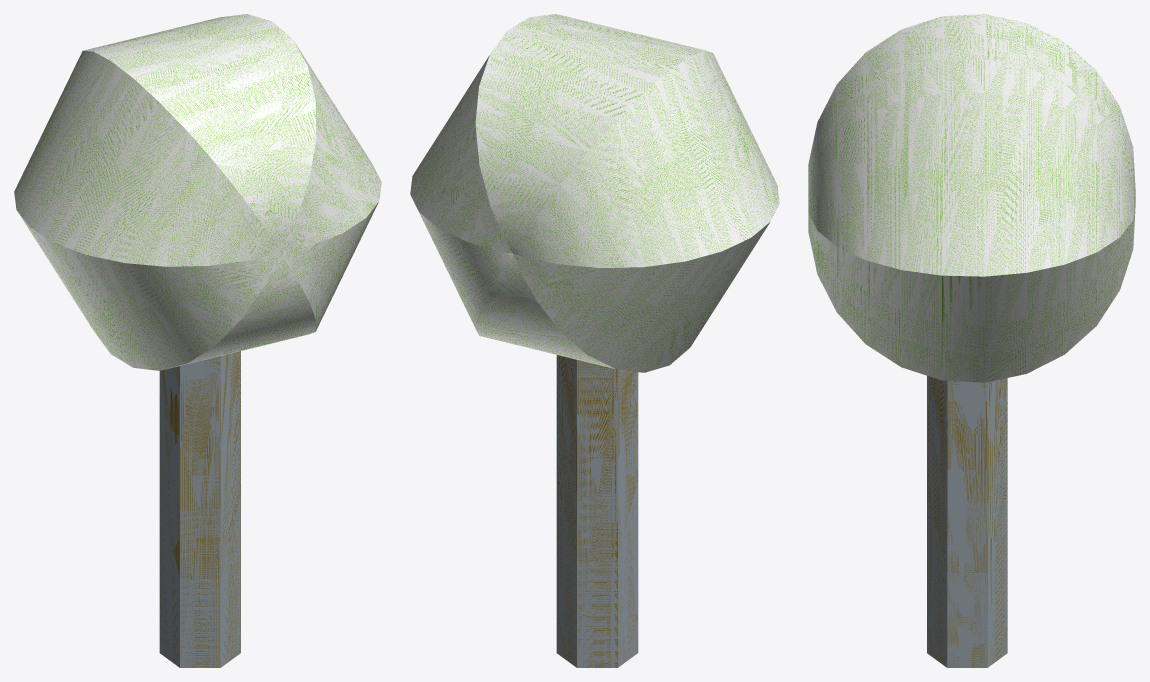
Rendered from shellTree.fbx.
The picture shows the model from 3 angles, left to right: view 1: azimuth 30°, elevation 25°; view 2: azimuth 150°, elevation 25°; view 3: azimuth 270°, elevation 25°; orthographic projection.
Parts seen in each view (by area): view 1: Model; view 2: Model; view 3: Model.
Part boxes in pixels (x1,y1,x2,y2): Model: [14, 14, 381, 667]; Model: [410, 14, 779, 667]; Model: [808, 14, 1135, 667].
Size of the model in its own units: 5.3 by 9.49 by 4.69.
